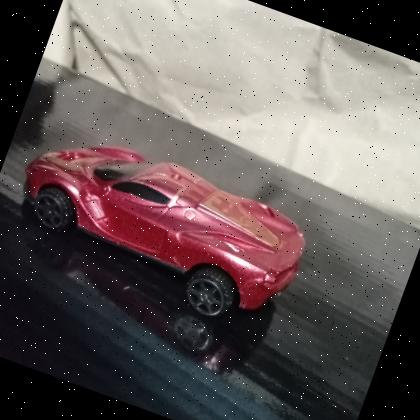Car: (23, 147, 305, 320)
